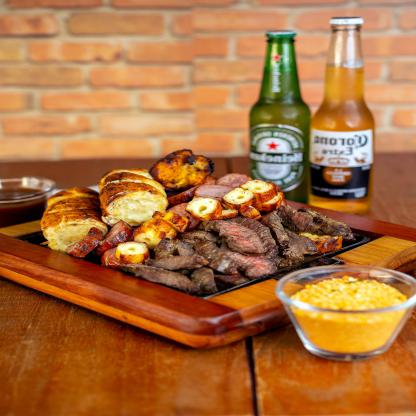Carne: (271, 200, 352, 244), (206, 213, 273, 257), (127, 258, 189, 296), (258, 212, 306, 257), (227, 243, 280, 280), (190, 227, 230, 272), (145, 241, 205, 270)
